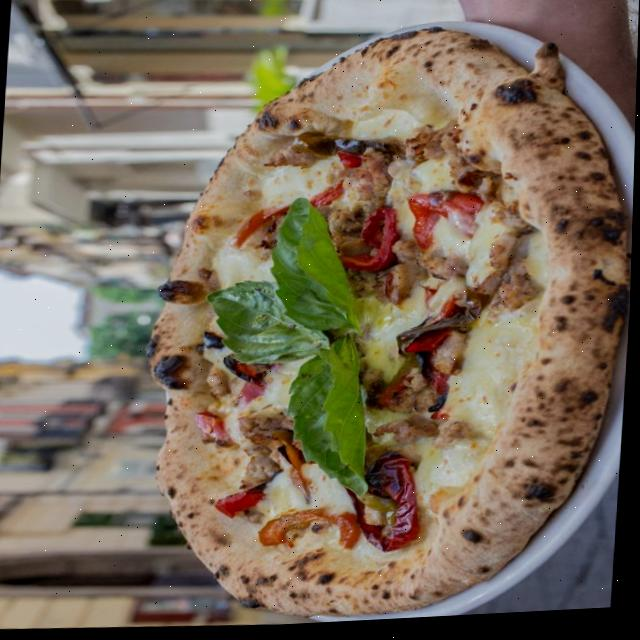basil: (282, 332, 381, 504), (267, 194, 373, 341), (201, 275, 342, 372)
pizza: (136, 11, 639, 634)
